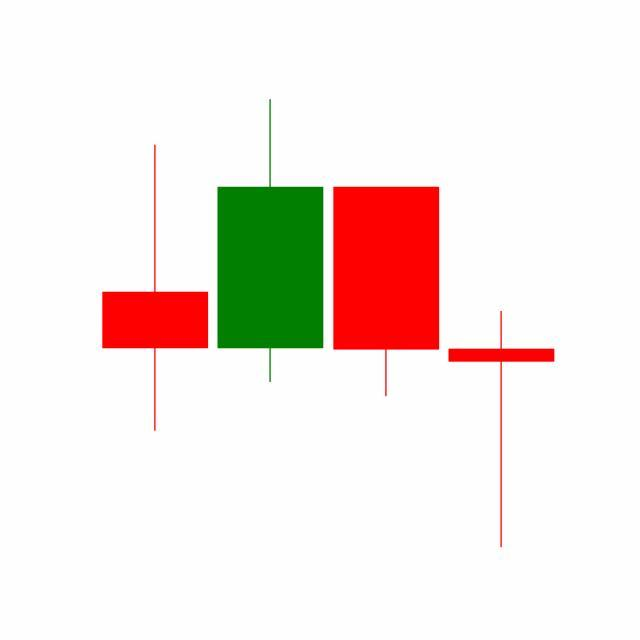Hammer: (444, 308, 560, 551)
